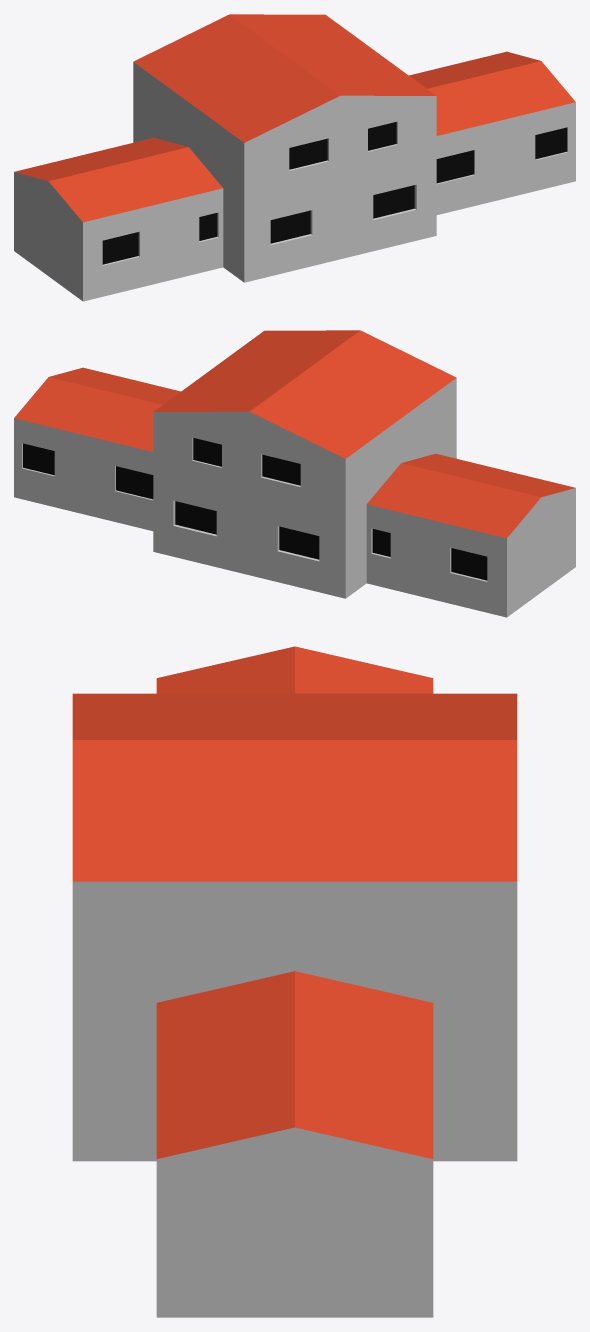
Rendered from Haus_4.fbx.
The picture shows the model from 3 angles, top to bottom: view 1: azimuth 30°, elevation 25°; view 2: azimuth 150°, elevation 25°; view 3: azimuth 270°, elevation 25°; orthographic projection. The views are drawn at different scales.
Visible parts, largest first — view 1: Cube.128; view 2: Cube.128; view 3: Cube.128.
Part boxes in pixels (x1,y1,x2,y2): Cube.128: [14, 14, 575, 301]; Cube.128: [14, 330, 575, 617]; Cube.128: [72, 646, 517, 1317].
Bounding box in the file's own units: 5331 × 1691 × 2081.
